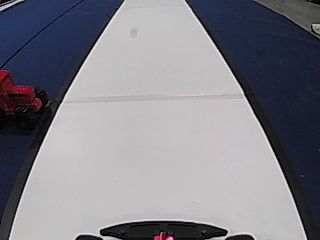tractor: (0, 64, 48, 132)
